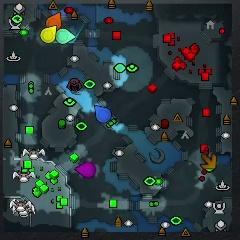p1: (95, 105, 112, 123)
p2: (56, 28, 75, 45)
p3: (75, 162, 96, 178)
p4: (41, 26, 57, 43)
p5: (46, 12, 62, 30)
x5: (202, 153, 217, 169)
